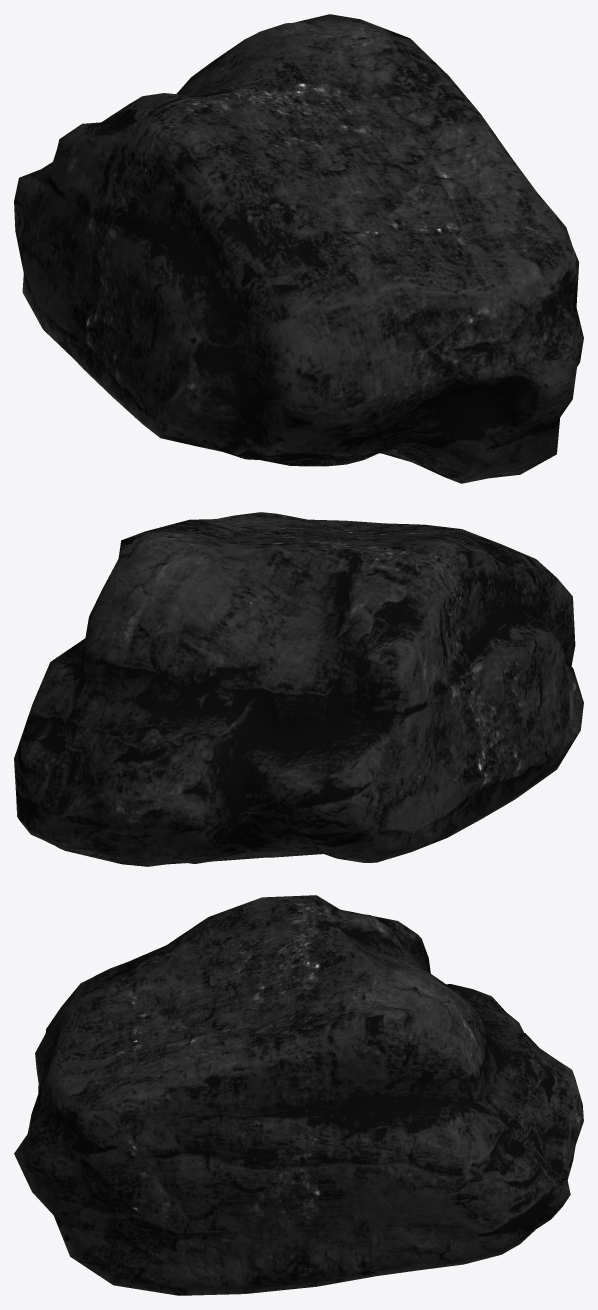
Rendered from rock.glb.
The picture shows the model from 3 angles, top to bottom: view 1: azimuth 30°, elevation 25°; view 2: azimuth 150°, elevation 25°; view 3: azimuth 270°, elevation 25°; orthographic projection. The views are drawn at different scales.
Parts seen in each view (by area): view 1: Rock_1; view 2: Rock_1; view 3: Rock_1.
Boxes of the visible parts, x1,y1,x2,y2 form: Rock_1: (14, 14, 583, 483); Rock_1: (14, 512, 583, 866); Rock_1: (14, 895, 583, 1295).
Bounding box in the file's own units: 4.08 × 3.34 × 5.8.
Materials: 1 (1 with a texture image).
